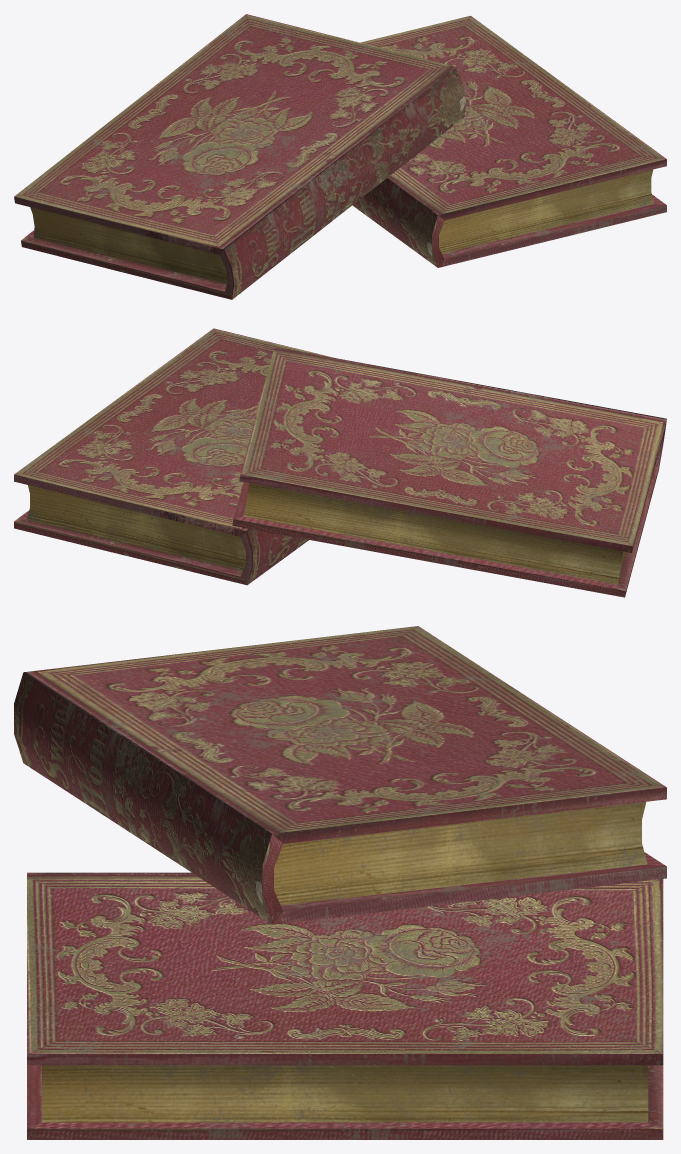
The model's file is old_books.glb.
3 views of the same model, one above another, from view 1: azimuth 30°, elevation 25°; view 2: azimuth 150°, elevation 25°; view 3: azimuth 270°, elevation 25° (orthographic). The views are drawn at different scales.
Parts seen in each view (by area): view 1: book1_low.001, book1_low; view 2: book1_low.001, book1_low; view 3: book1_low, book1_low.001.
Part boxes in pixels (x1=…): book1_low.001: x1=14, y1=14, x2=466, y2=299; book1_low: x1=352, y1=15, x2=666, y2=267; book1_low.001: x1=232, y1=347, x2=666, y2=597; book1_low: x1=14, y1=328, x2=332, y2=585; book1_low: x1=27, y1=872, x2=663, y2=1139; book1_low.001: x1=14, y1=626, x2=666, y2=924.
Bounding box in the file's own units: 33.69 × 7.43 × 22.07.
Materials: 1 (1 with a texture image).
